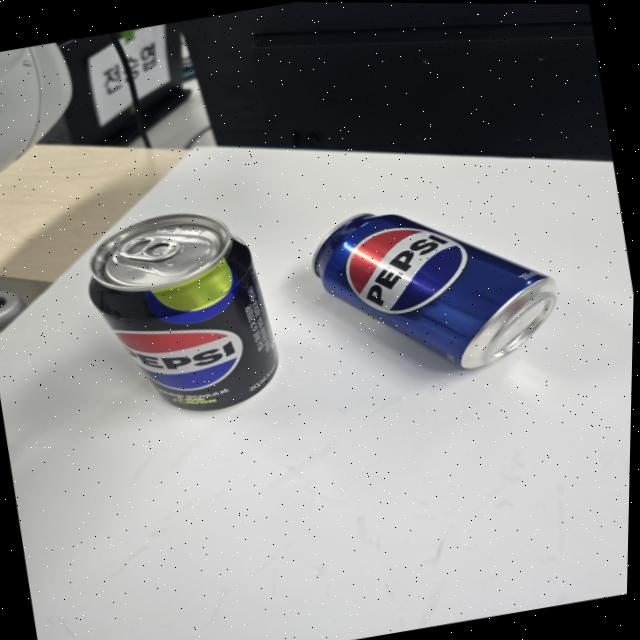can_pepsi: (304, 214, 549, 366)
can_pepsi_zero: (92, 216, 275, 412)
